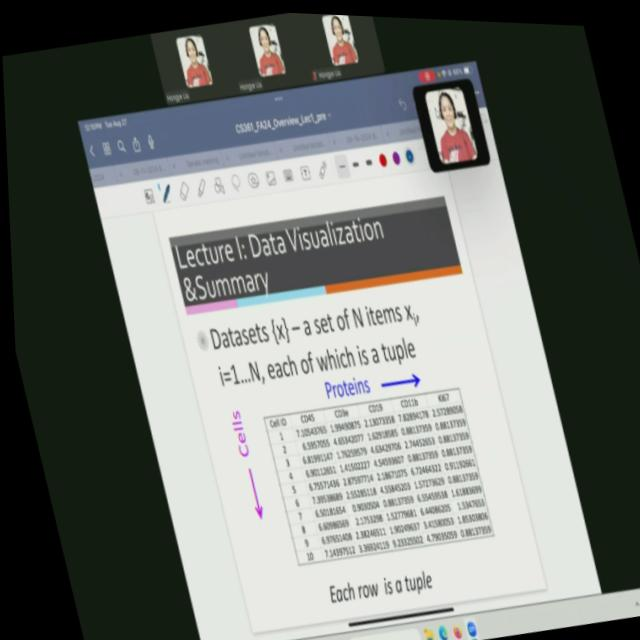equations: (210, 350, 261, 395)
